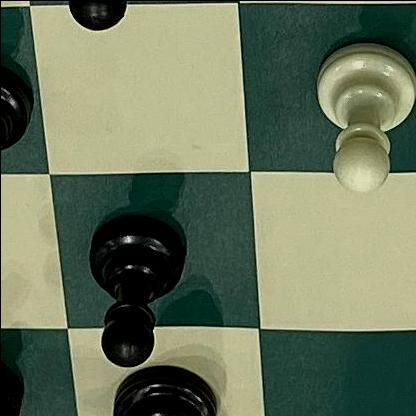black-bishop: (102, 356, 241, 416)
black-pawn: (81, 212, 183, 372), (0, 53, 35, 223), (47, 0, 171, 42)
white-pawn: (309, 35, 416, 201)
